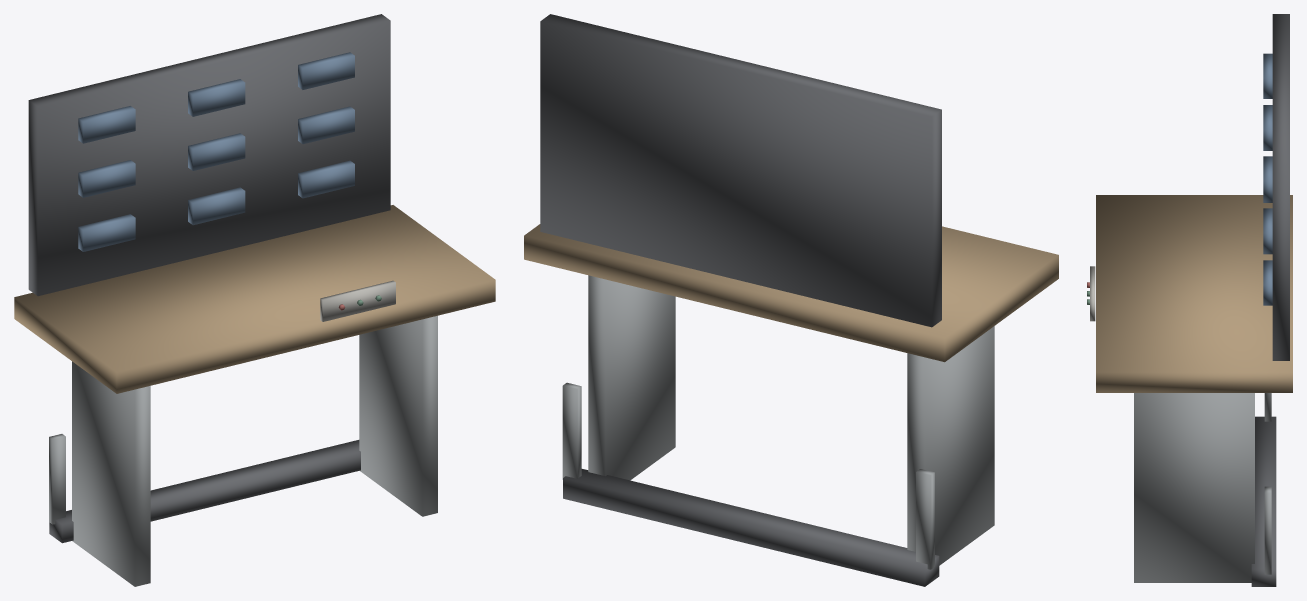
File: electronics_repair_bench__reinforced.glb
The picture shows the model from 3 angles, left to right: view 1: azimuth 30°, elevation 25°; view 2: azimuth 150°, elevation 25°; view 3: azimuth 270°, elevation 25°; orthographic projection. The views are drawn at different scales.
Parts seen in each view (by area): view 1: world; view 2: world; view 3: world.
Part boxes in pixels (box(x1,y1,x2,y2)): world: box(14, 14, 495, 586); world: box(524, 14, 1058, 586); world: box(1087, 14, 1292, 586).
Size of the model in its own units: 1.49 by 1.63 by 0.7323.
